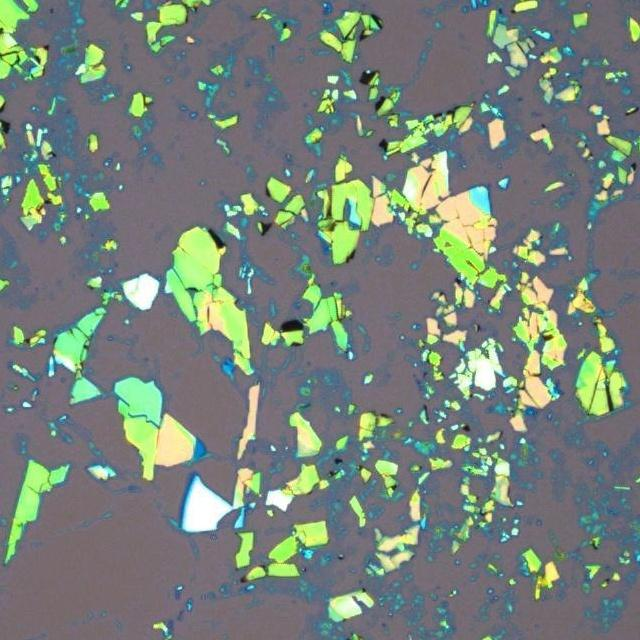monolayer-eWW4: (177, 472, 194, 524)
